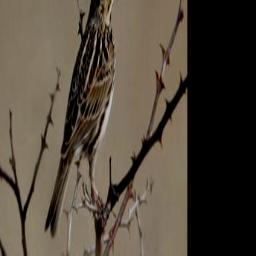Sparrow: (42, 0, 126, 247)
